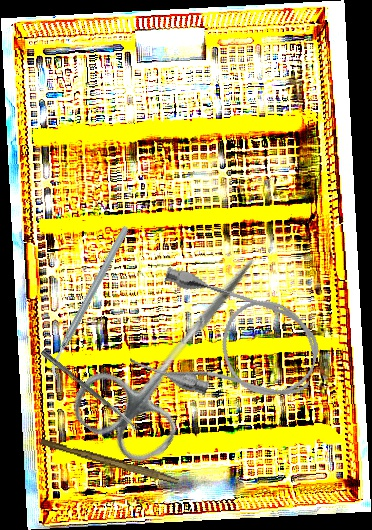Cannula: (126, 263, 330, 424)
Chopper: (5, 224, 175, 382)
Iris Scissors: (63, 224, 292, 475)
Scalpel Handle: (39, 437, 180, 485)
Surgical Spoon: (39, 349, 141, 433)
